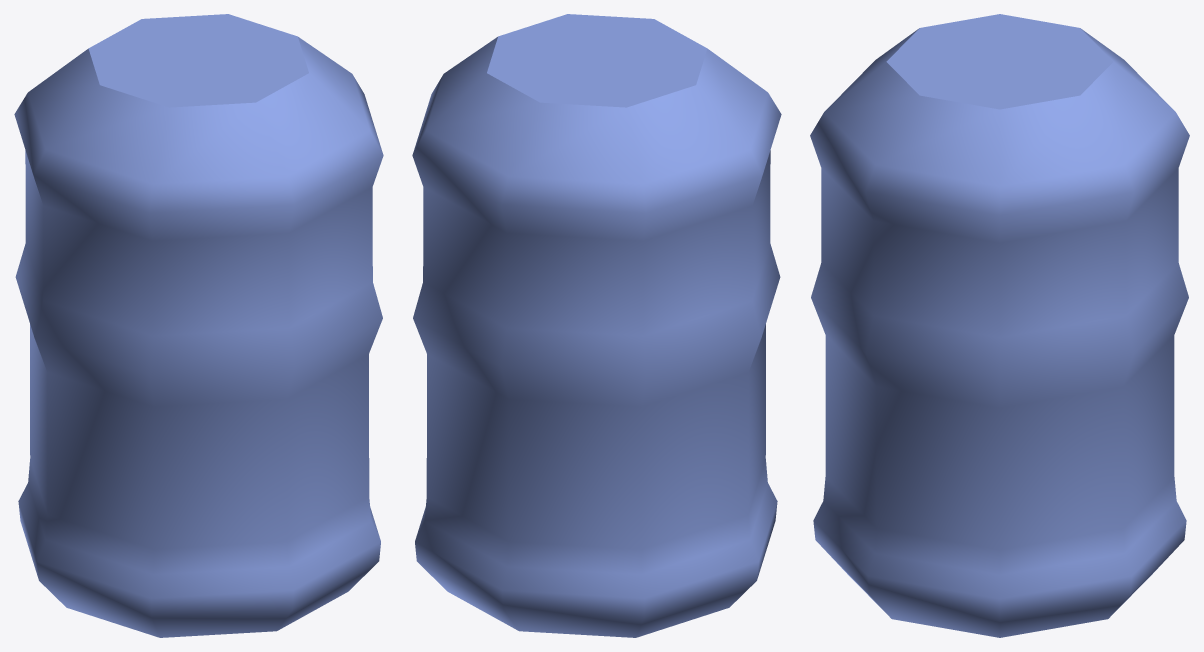
The model's file is garrafa.fbx.
The picture shows the model from 3 angles, left to right: view 1: azimuth 30°, elevation 25°; view 2: azimuth 150°, elevation 25°; view 3: azimuth 270°, elevation 25°; orthographic projection.
Parts seen in each view (by area): view 1: Garrafa; view 2: Garrafa; view 3: Garrafa.
Boxes of the visible parts, left/top/right/bottom form: Garrafa: left=14, top=14, right=383, bottom=637; Garrafa: left=412, top=14, right=781, bottom=637; Garrafa: left=810, top=14, right=1189, bottom=637.
Size of the model in its own units: 39.77 by 61.68 by 39.77.
